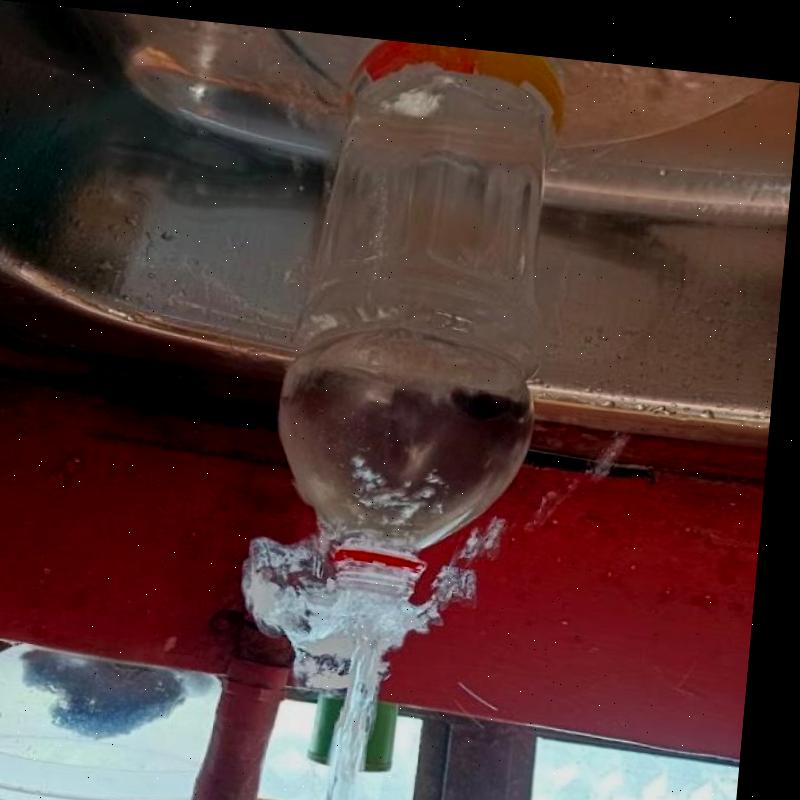botella: (281, 30, 574, 602)
